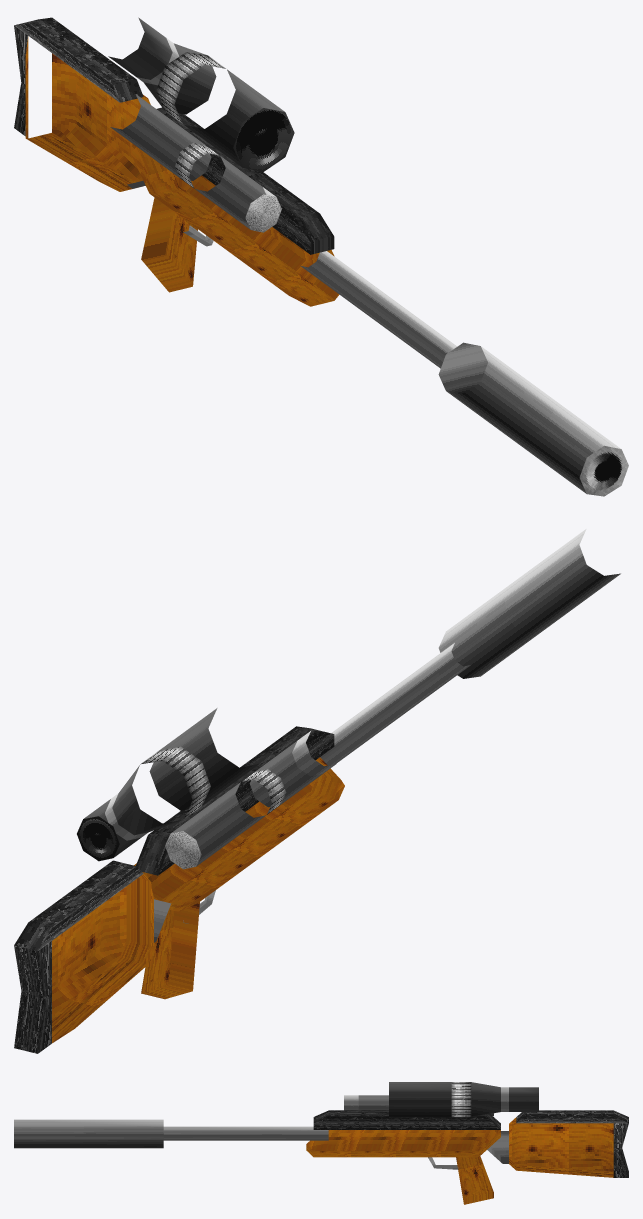
File: gun.glb
3 views of the same model, one above another, from view 1: azimuth 30°, elevation 25°; view 2: azimuth 150°, elevation 25°; view 3: azimuth 270°, elevation 25° (orthographic). The views are drawn at different scales.
Parts seen in each view (by area): view 1: m1, m0, m3, m5, m4, m2, m6ClampSClampT; view 2: m1, m0, m3, m4, m5, m6ClampSClampT; view 3: m1, m0, m3, m4.
Boxes of the visible parts, left/top/right/bottom form: m1: left=108, top=17, right=620, bottom=493; m0: left=25, top=37, right=339, bottom=306; m3: left=14, top=17, right=334, bottom=254; m5: left=233, top=108, right=294, bottom=171; m4: left=156, top=52, right=225, bottom=188; m2: left=579, top=445, right=628, bottom=496; m6ClampSClampT: left=245, top=194, right=281, bottom=232; m1: left=84, top=529, right=620, bottom=942; m0: left=52, top=757, right=344, bottom=1043; m3: left=14, top=726, right=334, bottom=1053; m4: left=140, top=746, right=286, bottom=819; m5: left=77, top=816, right=119, bottom=861; m6ClampSClampT: left=165, top=831, right=201, bottom=869; m1: left=14, top=1082, right=538, bottom=1169; m0: left=306, top=1117, right=613, bottom=1204; m3: left=313, top=1110, right=628, bottom=1177; m4: left=451, top=1082, right=471, bottom=1117.
Bounding box in the file's own units: 100 × 240 × 1092.
Materials: 7 (7 with a texture image).
